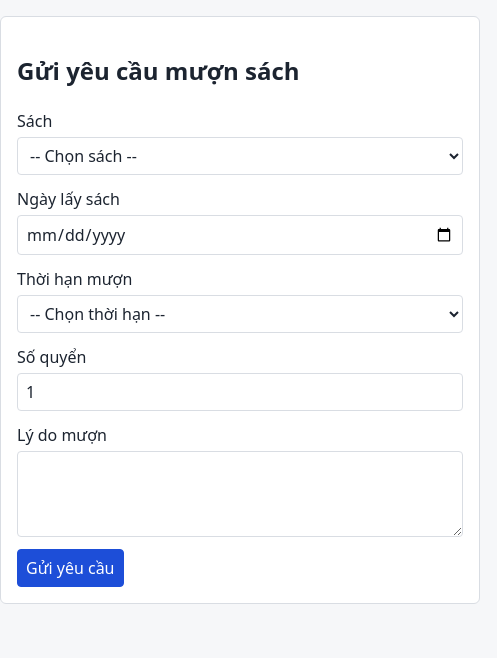
Test: LoanForm › action trả thông báo hết bản thì hiện thông báo và giữ lại dữ liệu đã nhập
What coordinates should you click on to do the following:
click the button "Gửi yêu cầu"
I would click on:
 (70, 568)
Its box is [17,549,124,587].
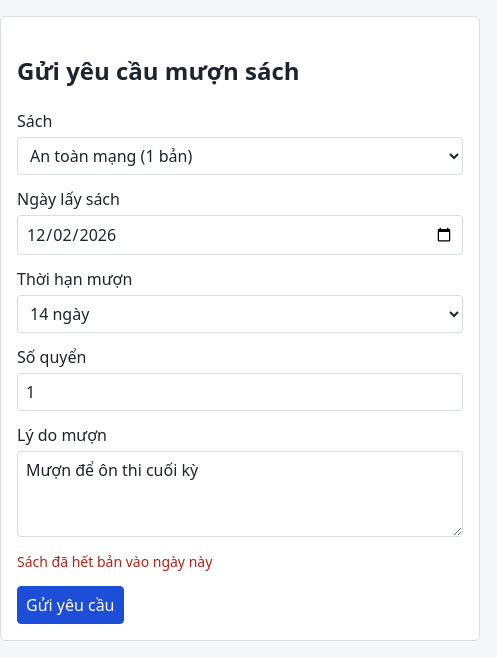
Expected: the text "Sách đã hết bản vào ngày này" is shown, [17,552,212,571]
Expected: the text box labelled "Lý do mượn" holds "Mượn để ôn thi cuối kỳ", [17,451,463,537]
Expected: the dropdown labelled "Sách" shows "An toàn mạng (1 bản)", [17,137,463,175]
